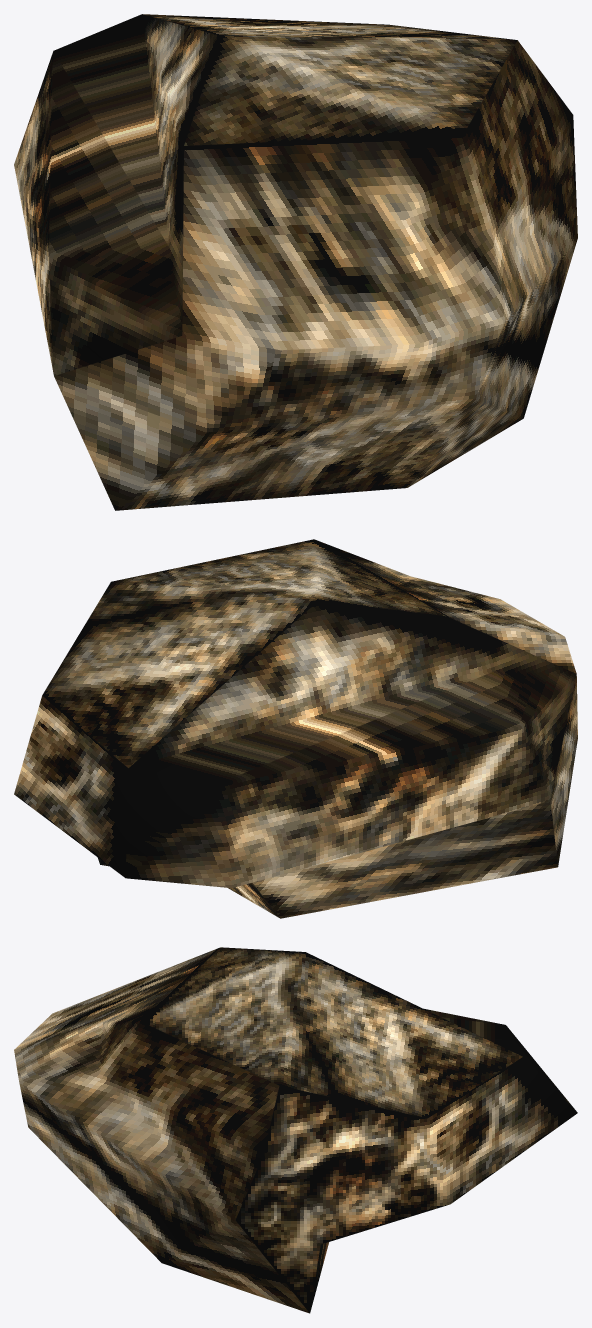
Rendered from asteroid5_3db.gltf.
The picture shows the model from 3 angles, top to bottom: view 1: azimuth 30°, elevation 25°; view 2: azimuth 150°, elevation 25°; view 3: azimuth 270°, elevation 25°; orthographic projection. The views are drawn at different scales.
Parts seen in each view (by area): view 1: asteroid5.3db; view 2: asteroid5.3db; view 3: asteroid5.3db.
Part boxes in pixels (x1,y1,x2,y2): asteroid5.3db: (14, 14, 577, 510); asteroid5.3db: (14, 539, 577, 918); asteroid5.3db: (14, 947, 577, 1313).
Size of the model in its own units: 1.98 by 1.4 by 2.55.
Materials: 1 (1 with a texture image).
